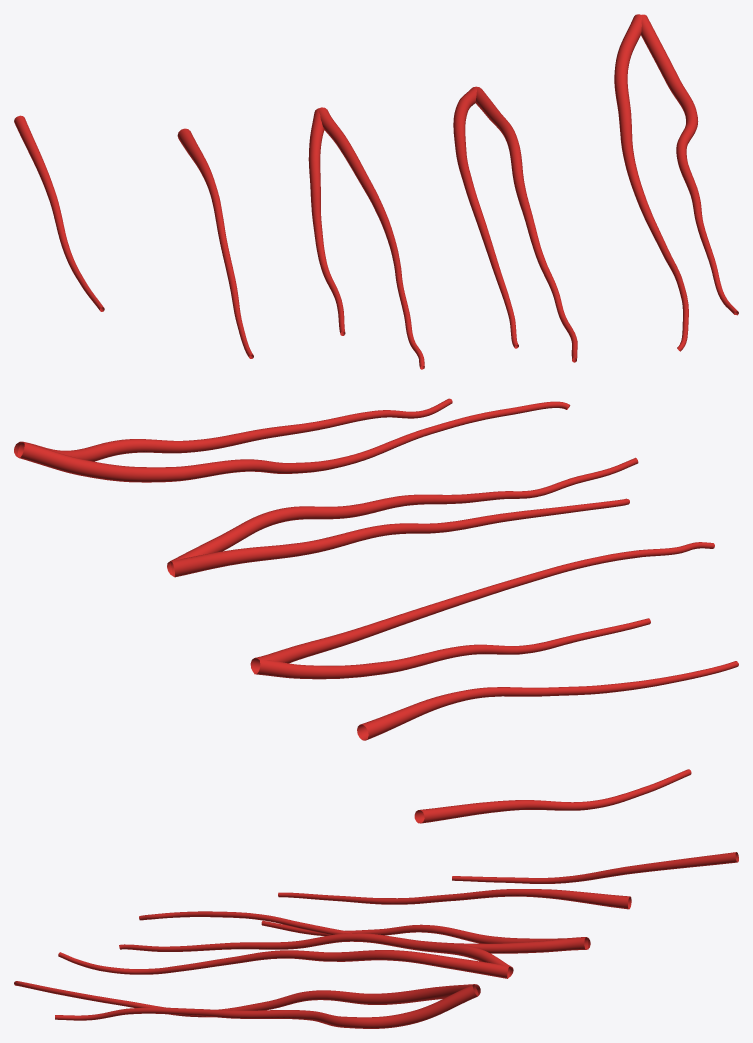
File: circulatorio-dorsal-digital-veins-of-foot-r.glb
The picture shows the model from 3 angles, top to bottom: view 1: azimuth 30°, elevation 25°; view 2: azimuth 150°, elevation 25°; view 3: azimuth 270°, elevation 25°; orthographic projection. The views are drawn at different scales.
Visible parts, largest first — view 1: Dorsal digital veins of foot.r; view 2: Dorsal digital veins of foot.r; view 3: Dorsal digital veins of foot.r.
Boxes of the visible parts, left/top/right/bottom form: Dorsal digital veins of foot.r: left=14, top=14, right=738, bottom=369; Dorsal digital veins of foot.r: left=14, top=398, right=738, bottom=823; Dorsal digital veins of foot.r: left=14, top=852, right=738, bottom=1028.
Size of the model in its own units: 0.063 by 0.0167 by 0.077.
